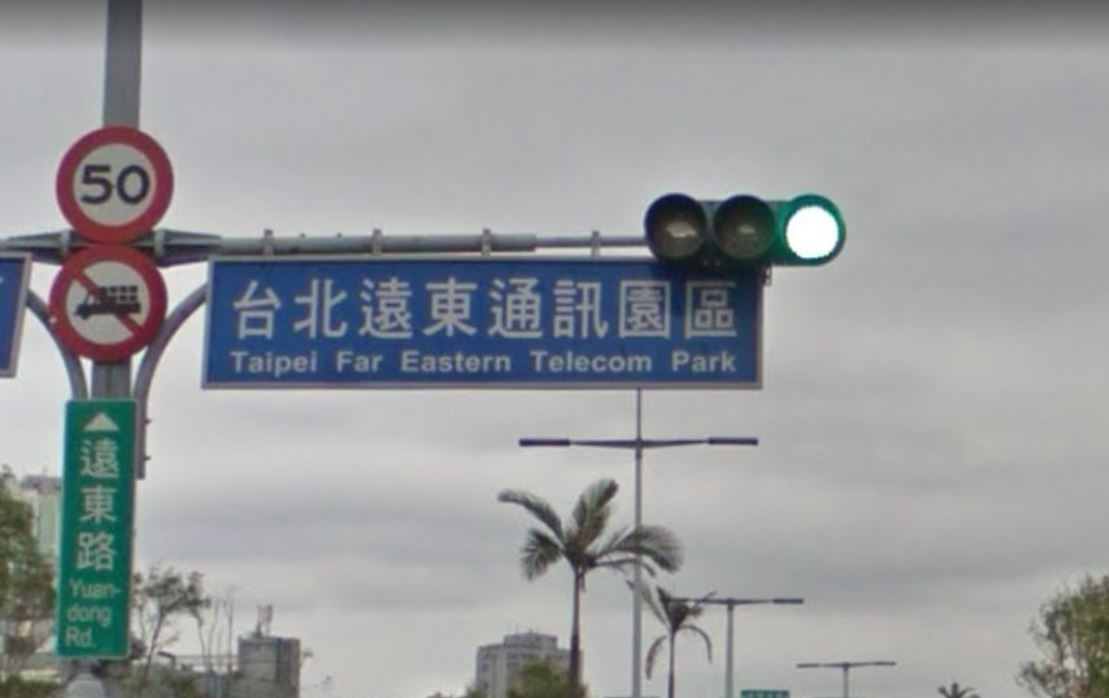Speed_limit_50km: (53, 124, 178, 241)
Traffic_light_green: (642, 188, 851, 271)
